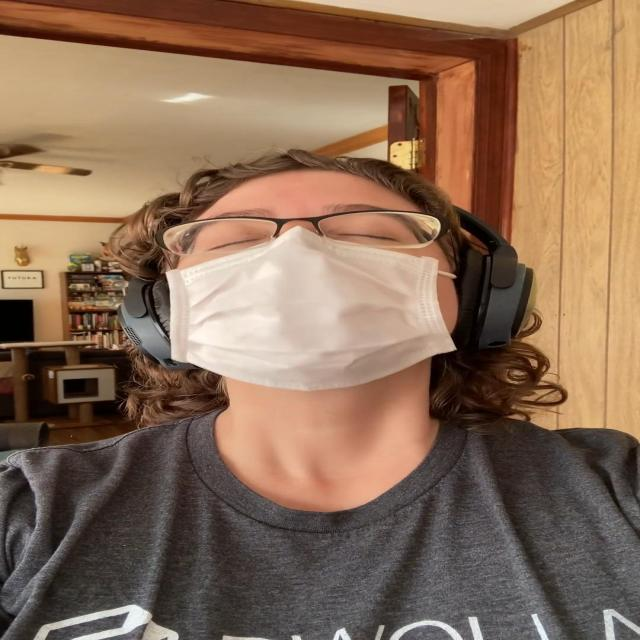no-helmet: (156, 170, 476, 388)
